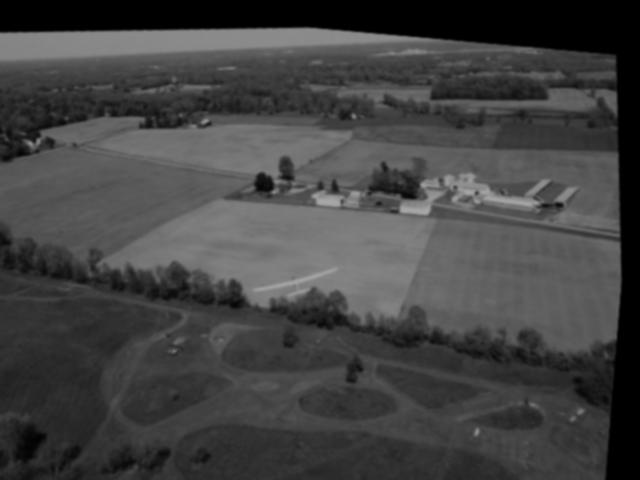hedef: (253, 247, 352, 309)
